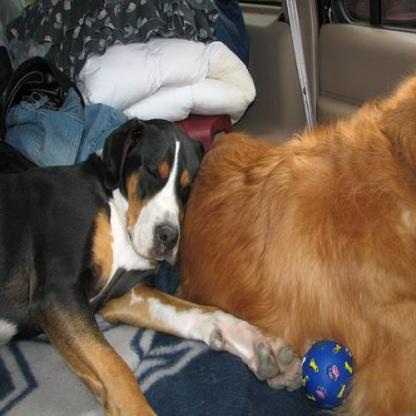Greater_Swiss_Mountain_dog: (0, 118, 302, 414)
